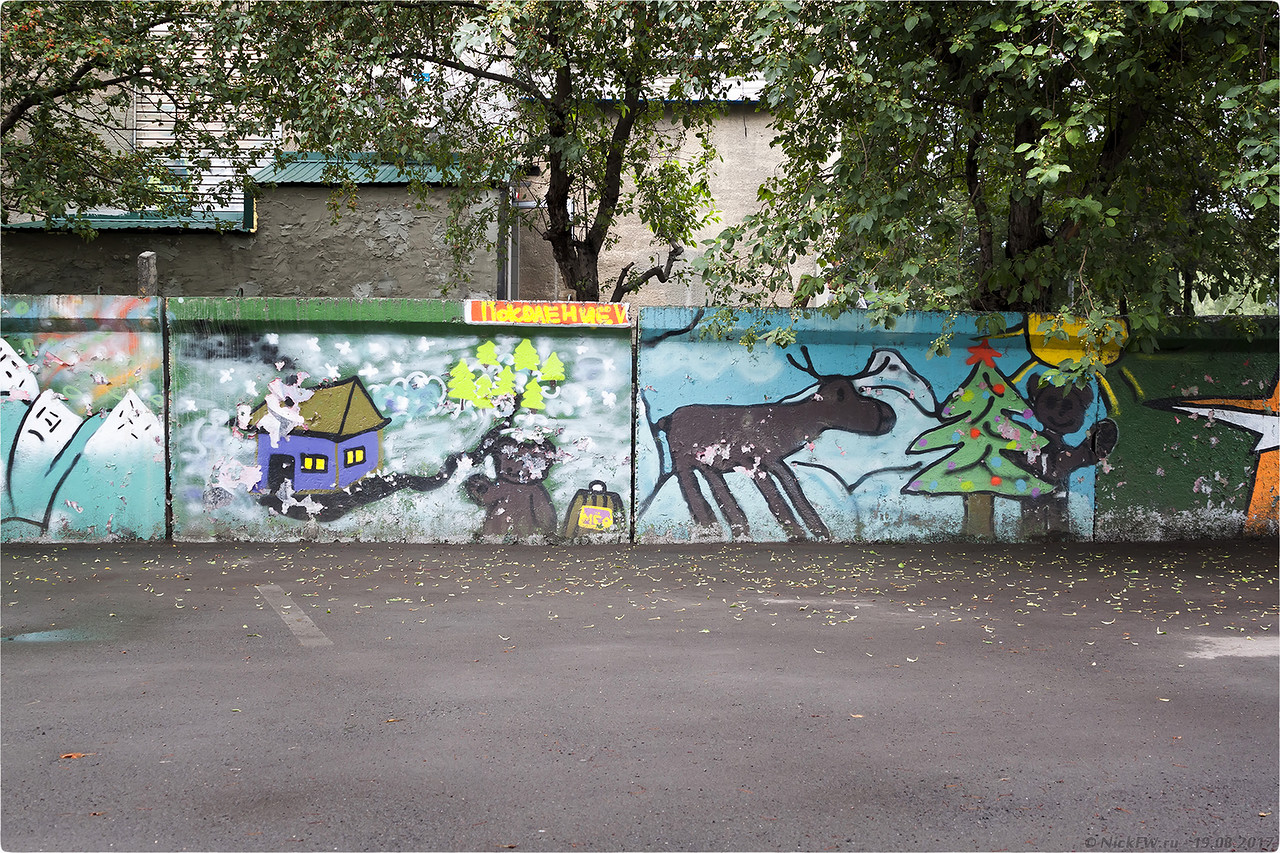graphite: (642, 345, 904, 546), (1, 320, 162, 549), (229, 360, 448, 523), (457, 346, 624, 537), (1027, 315, 1139, 547), (911, 343, 1027, 539), (1160, 364, 1280, 535), (470, 301, 641, 334)
